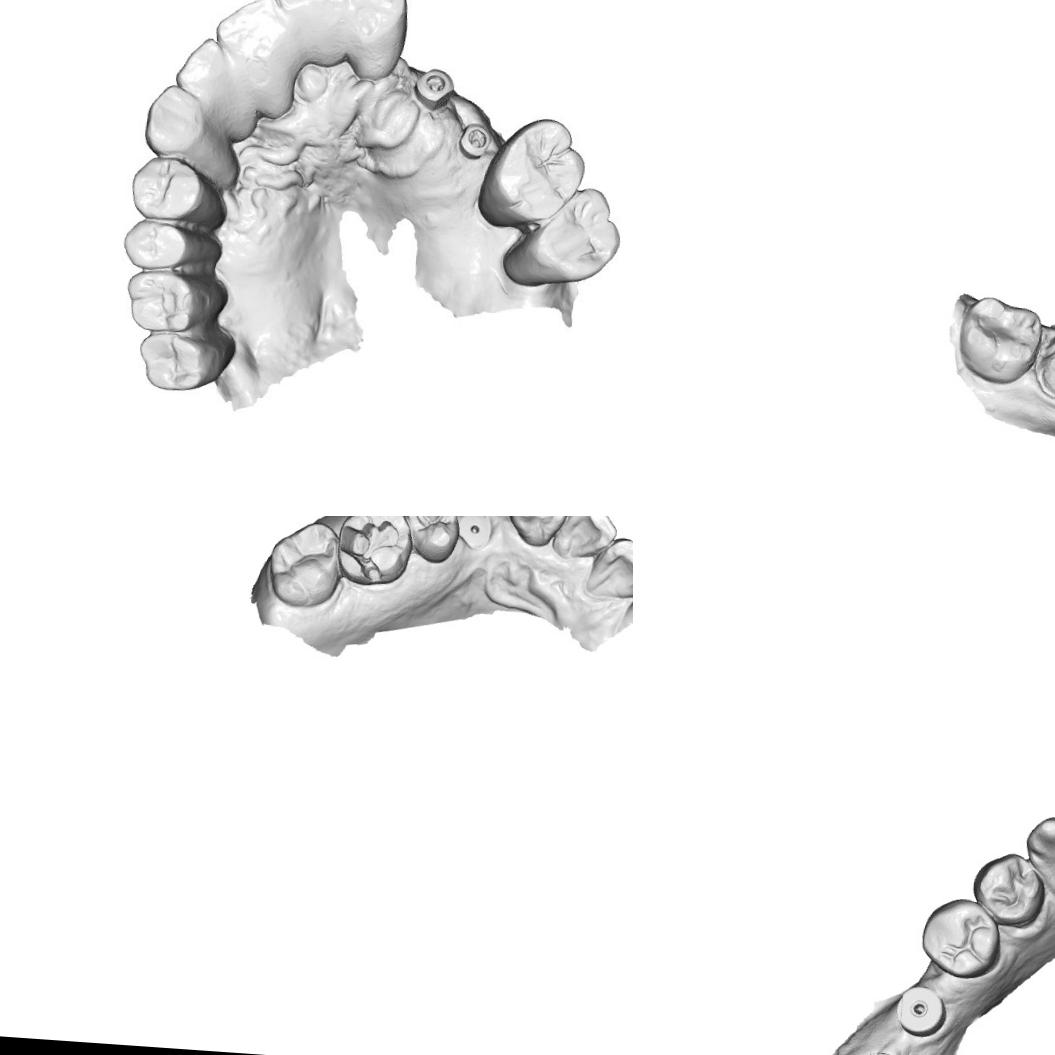canine: (136, 83, 247, 192), (1021, 812, 1055, 900), (503, 516, 570, 549)
crown: (1032, 327, 1055, 408)
implant: (895, 981, 951, 1037), (455, 115, 500, 168), (414, 64, 458, 112), (453, 516, 496, 552)
incisor: (209, 0, 300, 118), (173, 35, 255, 140), (276, 0, 357, 76), (344, 0, 412, 80), (582, 533, 633, 603), (549, 516, 619, 562)
inlay: (334, 516, 401, 584)
molar: (502, 186, 620, 293), (483, 114, 589, 230), (954, 292, 1046, 388), (263, 518, 344, 609), (130, 325, 230, 395), (123, 272, 220, 334)
premolar: (917, 896, 1004, 982), (132, 156, 234, 228), (968, 847, 1046, 929), (122, 216, 227, 274), (401, 516, 463, 565)
